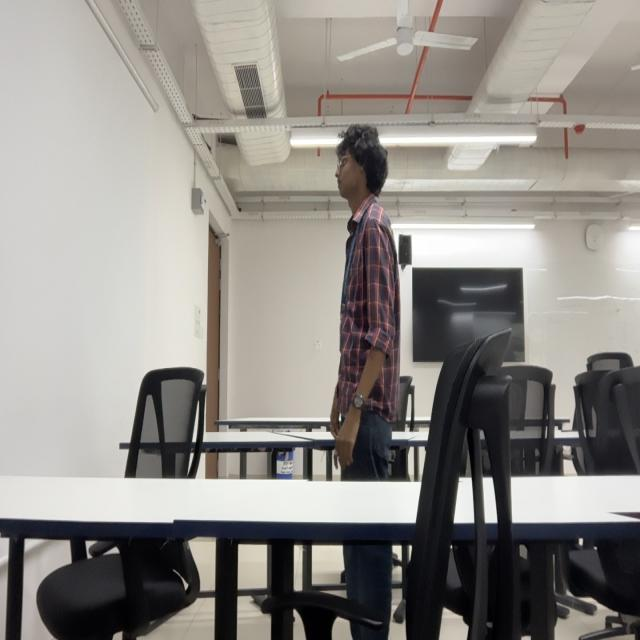darshan: (333, 120, 390, 202)
